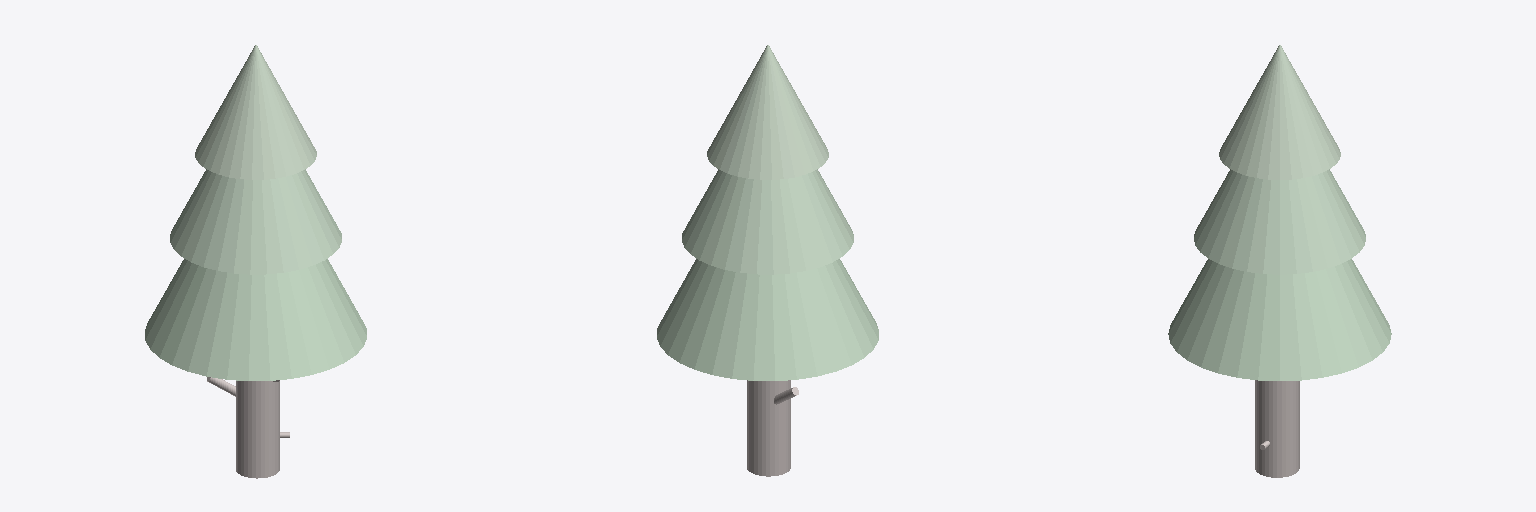
Rendered from tree-toon.obj.
3 views of the same model, side by side, from view 1: azimuth 30°, elevation 25°; view 2: azimuth 150°, elevation 25°; view 3: azimuth 270°, elevation 25° (orthographic).
Visible parts, largest first — view 1: Cone_003, Cone_002, Cone_001, Cylinder; view 2: Cone_003, Cone_002, Cone_001, Cylinder; view 3: Cone_003, Cone_002, Cone_001, Cylinder.
Boxes of the visible parts, box(x1,y1,x2,y2) form: Cone_003: box(145, 259, 366, 380); Cone_002: box(170, 169, 341, 274); Cone_001: box(195, 45, 316, 179); Cylinder: box(236, 381, 279, 478); Cone_003: box(657, 259, 878, 380); Cone_002: box(682, 169, 853, 274); Cone_001: box(707, 45, 828, 179); Cylinder: box(747, 380, 790, 476); Cone_003: box(1168, 259, 1391, 380); Cone_002: box(1194, 169, 1365, 274); Cone_001: box(1219, 45, 1340, 179); Cylinder: box(1255, 380, 1299, 477).
Bounding box in the file's own units: 3.66 × 7.68 × 3.66.